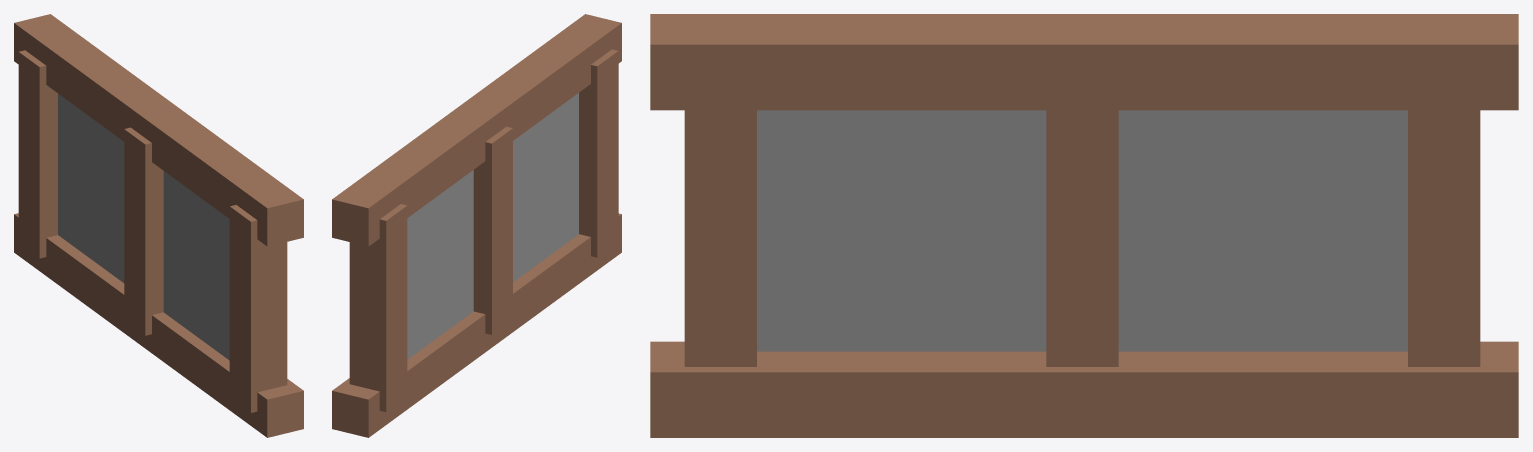
The model's file is window.fbx.
The picture shows the model from 3 angles, left to right: view 1: azimuth 30°, elevation 25°; view 2: azimuth 150°, elevation 25°; view 3: azimuth 270°, elevation 25°; orthographic projection. The views are drawn at different scales.
Parts seen in each view (by area): view 1: Plane, Cube.003, Cube.004, Cube.002, Cube.001, Cube; view 2: Plane, Cube.003, Cube.004, Cube.001, Cube.002, Cube; view 3: Plane, Cube.003, Cube.004, Cube, Cube.001, Cube.002.
Boxes of the visible parts, x1,y1,x2,y2 form: Plane: (58, 93, 229, 360); Cube.003: (14, 14, 303, 246); Cube.004: (14, 213, 303, 437); Cube.002: (229, 205, 287, 412); Cube.001: (18, 50, 57, 258); Cube: (124, 127, 163, 335); Plane: (407, 93, 578, 359); Cube.003: (332, 14, 621, 246); Cube.004: (332, 213, 621, 437); Cube.001: (349, 204, 407, 411); Cube.002: (579, 49, 618, 257); Cube: (473, 126, 512, 334); Plane: (757, 110, 1407, 351); Cube.003: (650, 14, 1518, 110); Cube.004: (650, 341, 1518, 437); Cube: (1046, 110, 1118, 366); Cube.001: (1408, 110, 1480, 366); Cube.002: (684, 110, 756, 366).
Size of the model in its own units: 47.18 by 240 by 480.
